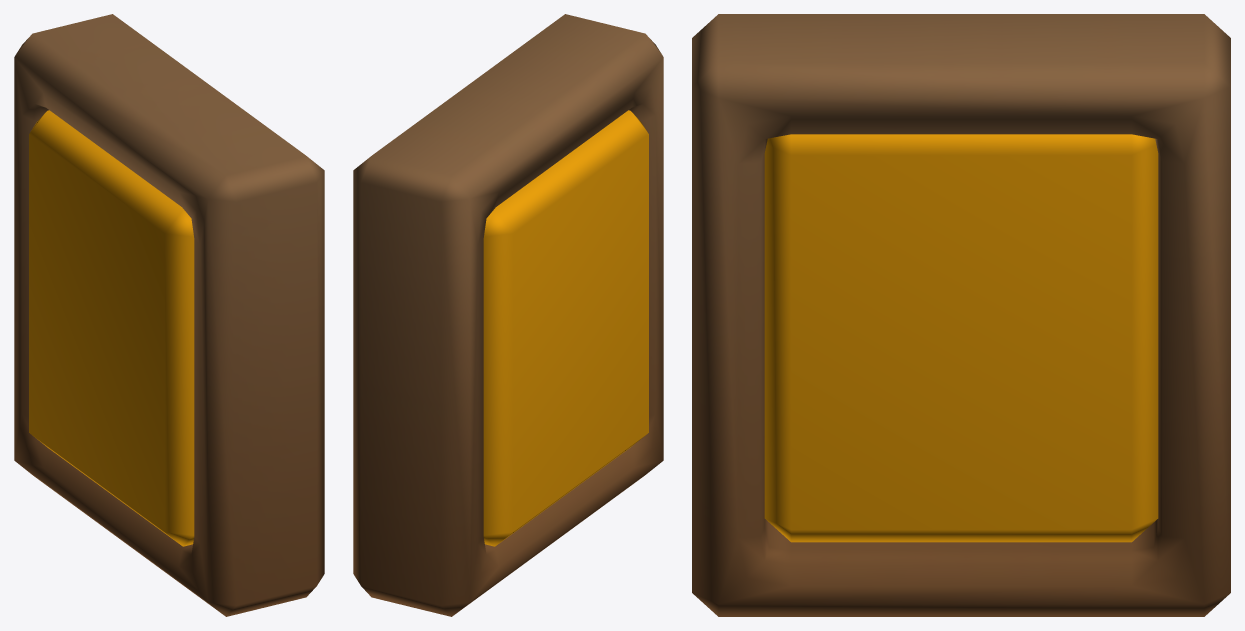
Rendered from SM_Clay_Window_01.fbx.
3 renders of one model, left to right at view 1: azimuth 30°, elevation 25°; view 2: azimuth 150°, elevation 25°; view 3: azimuth 270°, elevation 25°, orthographic. The views are drawn at different scales.
Visible parts, largest first — view 1: SM_Clay_Window_01; view 2: SM_Clay_Window_01; view 3: SM_Clay_Window_01.
Boxes of the visible parts, x1,y1,x2,y2 form: SM_Clay_Window_01: (14, 14, 324, 616); SM_Clay_Window_01: (353, 14, 663, 616); SM_Clay_Window_01: (692, 14, 1230, 616).
Size of the model in its own units: 0.1028 by 0.3314 by 0.2921.
